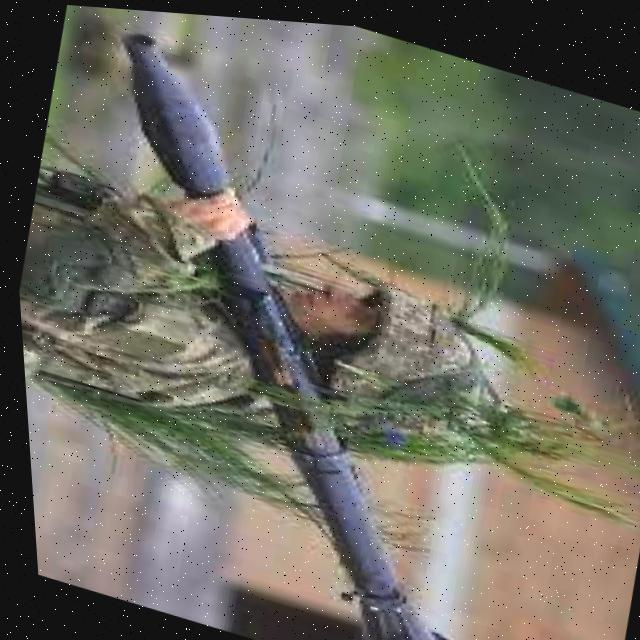rocket: (1, 17, 581, 640)
